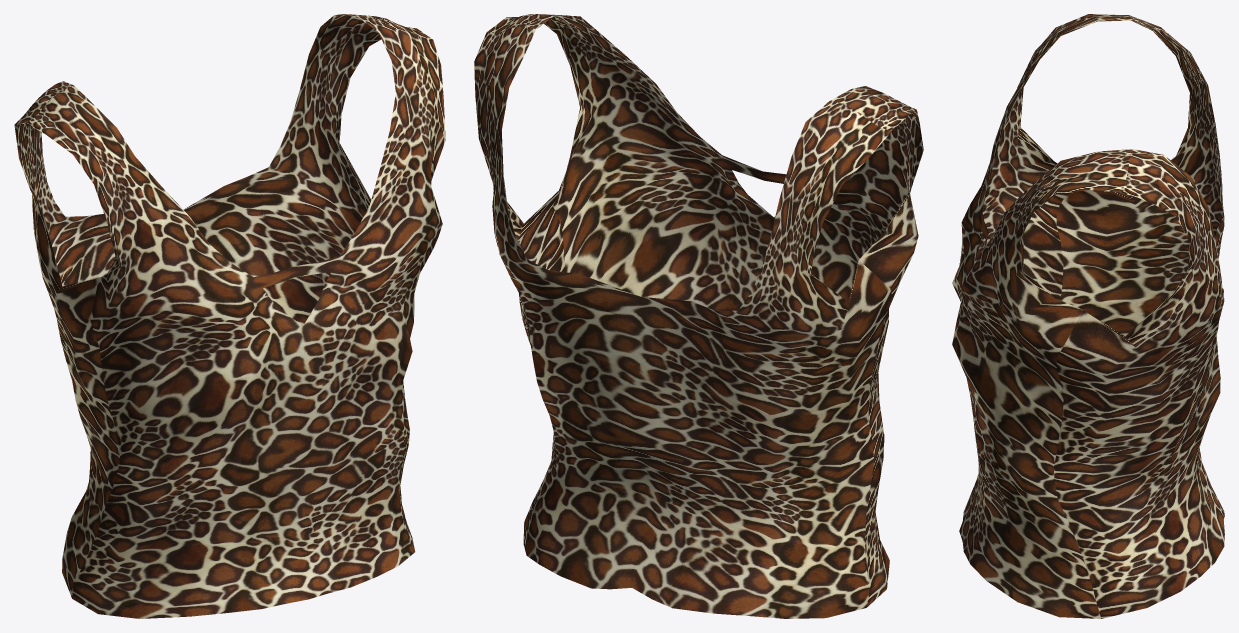
Rendered from top_tank.gltf.
3 renders of one model, left to right at view 1: azimuth 30°, elevation 25°; view 2: azimuth 150°, elevation 25°; view 3: azimuth 270°, elevation 25°, orthographic. The views are drawn at different scales.
Visible parts, largest first — view 1: top_tank; view 2: top_tank; view 3: top_tank.
Part boxes in pixels (left/top/right/bottom): top_tank: left=14, top=14, right=445, bottom=618; top_tank: left=474, top=14, right=923, bottom=618; top_tank: left=952, top=14, right=1224, bottom=618.
Size of the model in its own units: 0.4136 by 0.5021 by 0.269.
1 material, 1 textured.
